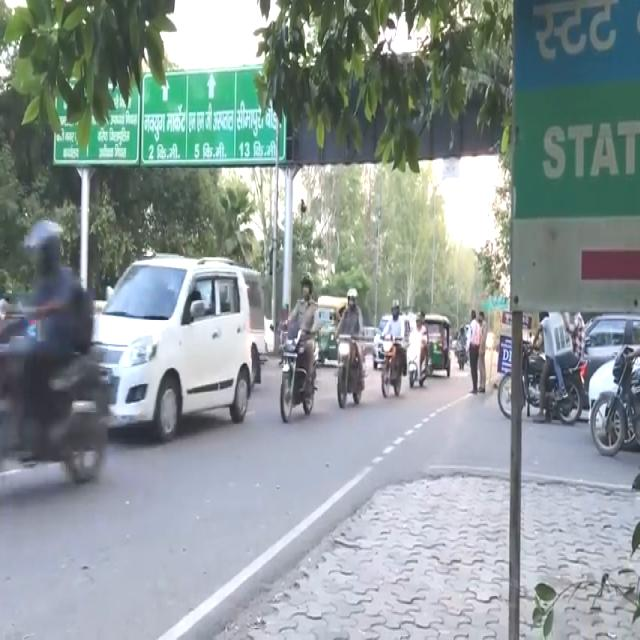MOTORCYCLE: (592, 348, 640, 462), (278, 327, 318, 421), (336, 328, 366, 403), (378, 335, 402, 400), (408, 340, 428, 388)
SUV: (83, 262, 250, 433)
